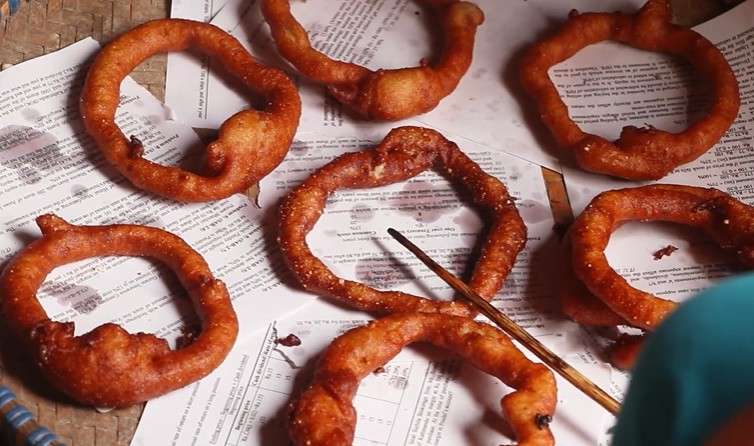sel_roti: (280, 129, 526, 318), (77, 15, 301, 197), (10, 224, 234, 396), (519, 8, 741, 175), (292, 313, 557, 446), (580, 184, 754, 323), (271, 3, 481, 112)
